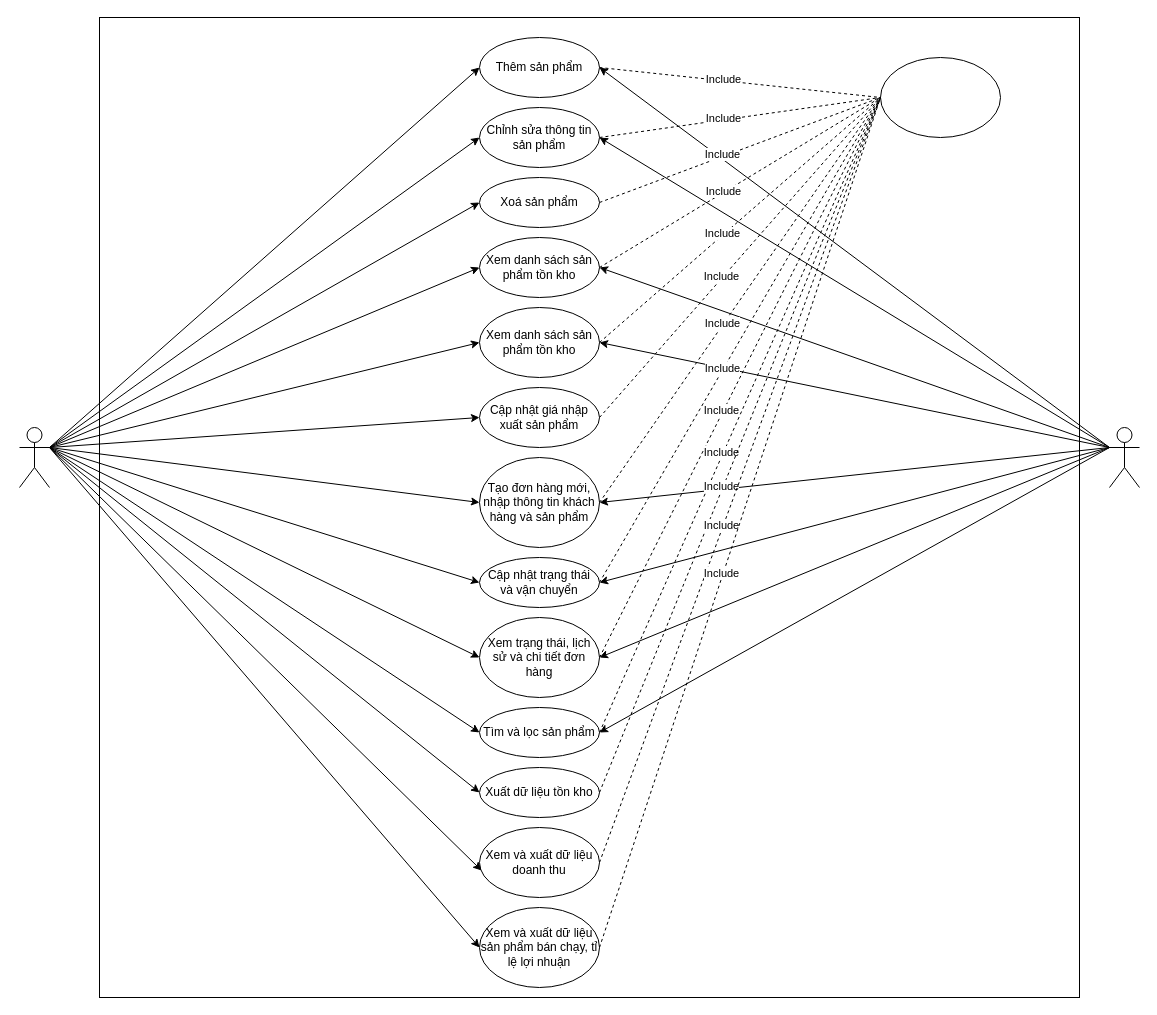
Image size: 1157x1015. Some labels were removed from this diagram. Each missing label, with the centre of its shape:
"Admin" goes at [34,457].
"Staff" goes at [1124,457].
"Đăng nhập" goes at [940,97].
